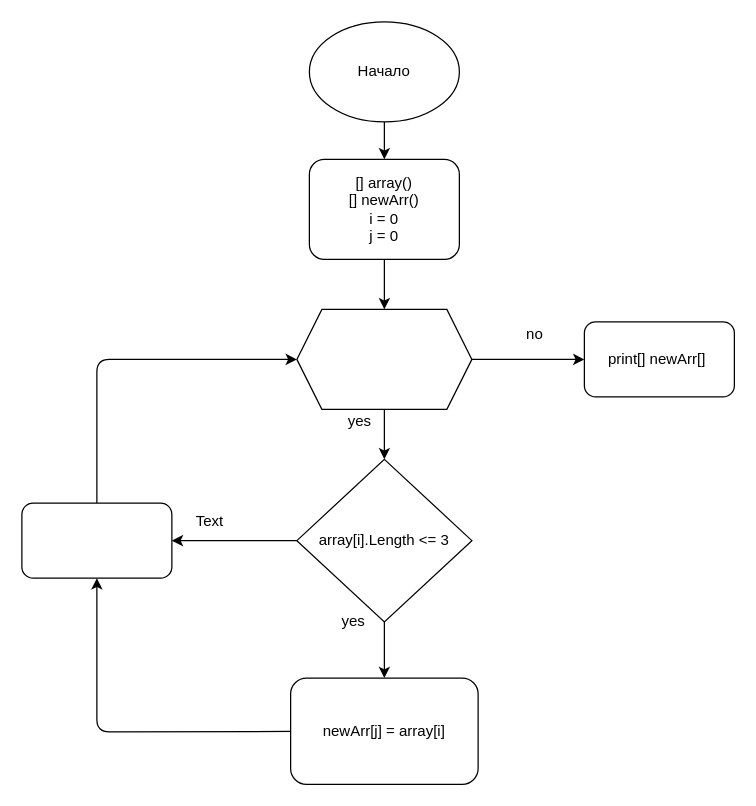
Image size: 756x806. Some labels were removed from this diagram. Each missing label, with the centre of its shape:
i ++: the point at 96,540
i < array.Length: the point at 384,358
